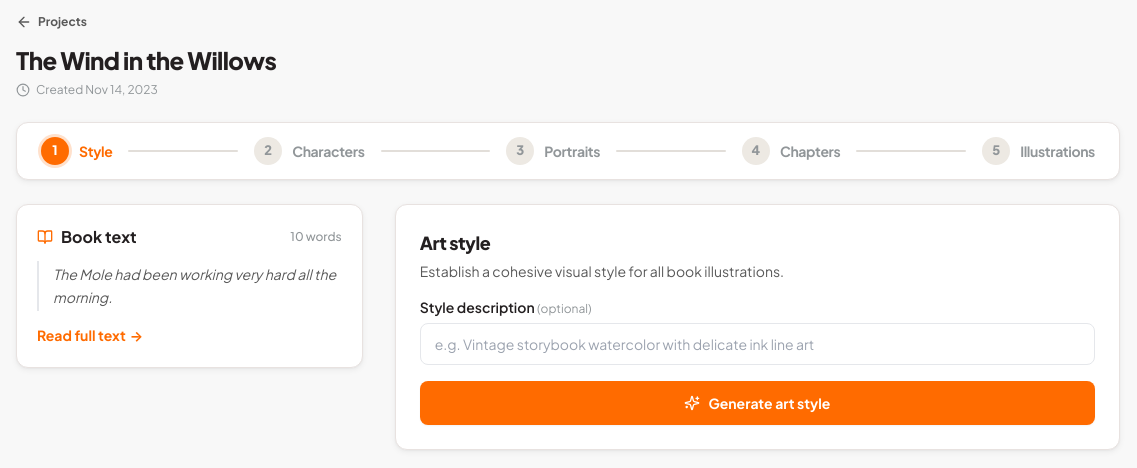
BRD-PROJ-DETAIL-01: Project Workspace (/projects/:id) Business Rules › BR-PD-RUN-01 & BR-PD-RUN-02: In-flight loading state › BR-PD-RUN-01: the action button is gone immediately after click, preventing double-submission
Click the button with test id "execute-step-style".
click(757, 403)  # box [420,381,1095,425]
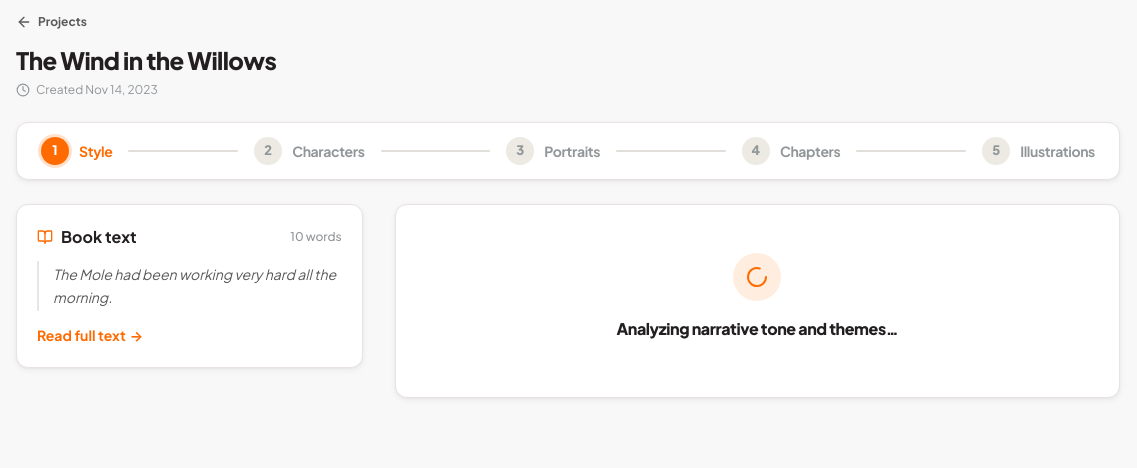
expect the button with test id "execute-step-style" is gone: met
